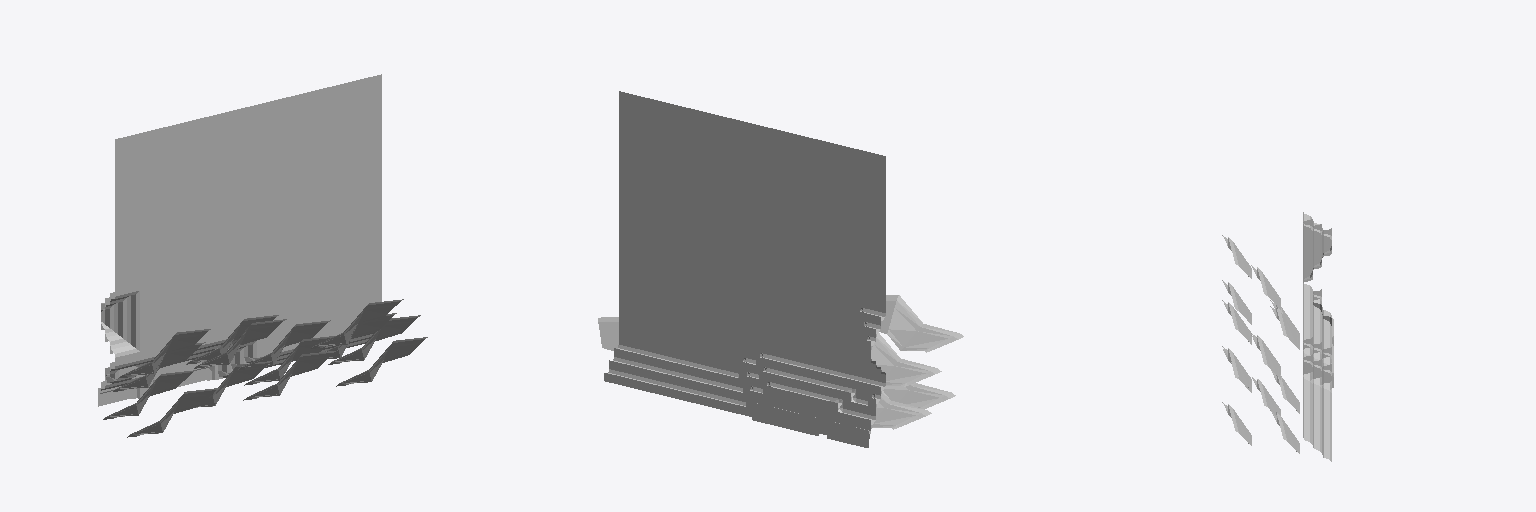
Rendered from Victory-Road-3_03_01.obj.
3 renders of one model, left to right at view 1: azimuth 30°, elevation 25°; view 2: azimuth 150°, elevation 25°; view 3: azimuth 270°, elevation 25°, orthographic.
Visible parts, largest first — view 1: map; view 2: map; view 3: map.
Boxes of the visible parts, <box> form: map: <box>98,74,427,437</box>; map: <box>598,91,963,447</box>; map: <box>1222,212,1333,461</box>.
Bounding box in the file's own units: 40.18 × 32 × 12.03.